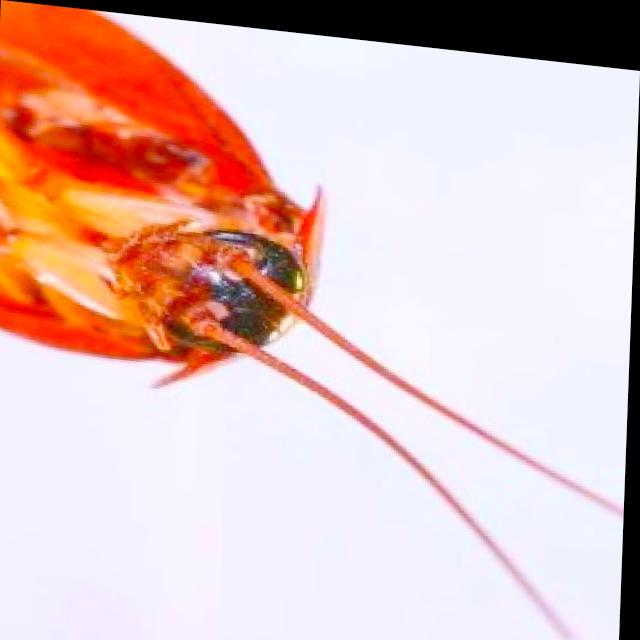cockroach: (1, 4, 325, 377)
